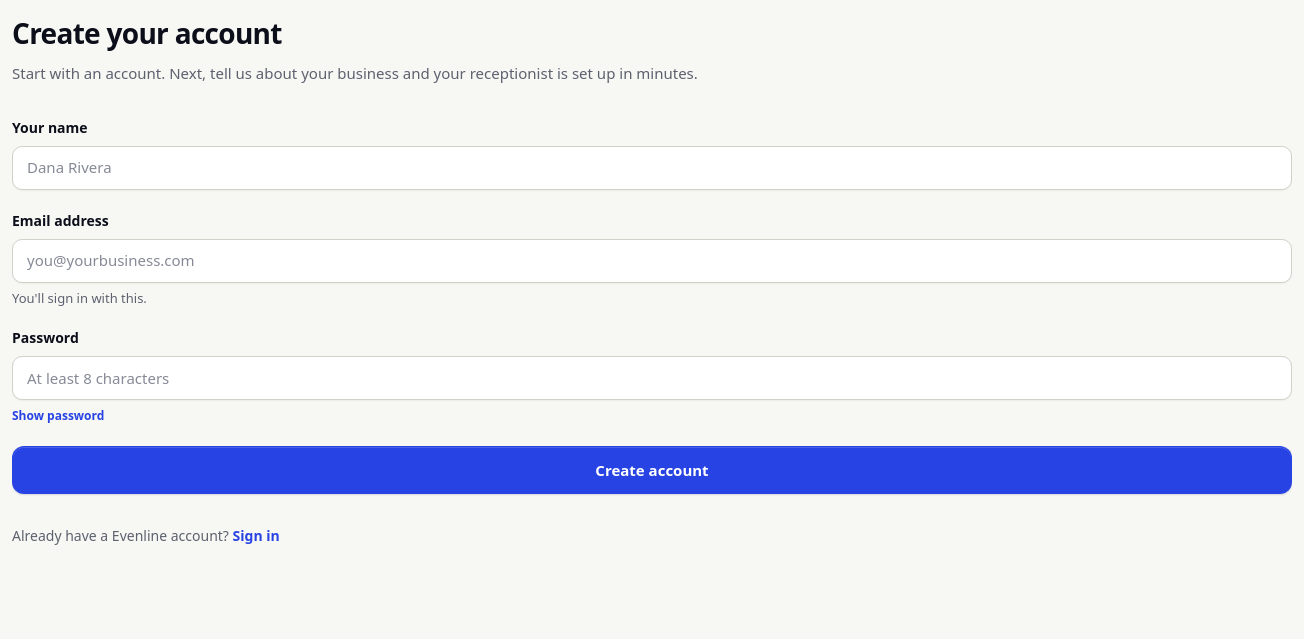
it: creating an account › checks the fields before asking the server
Type "short" into the password field labelled "Password" at (652, 378), box x1=12 y1=356 x2=1292 y2=400
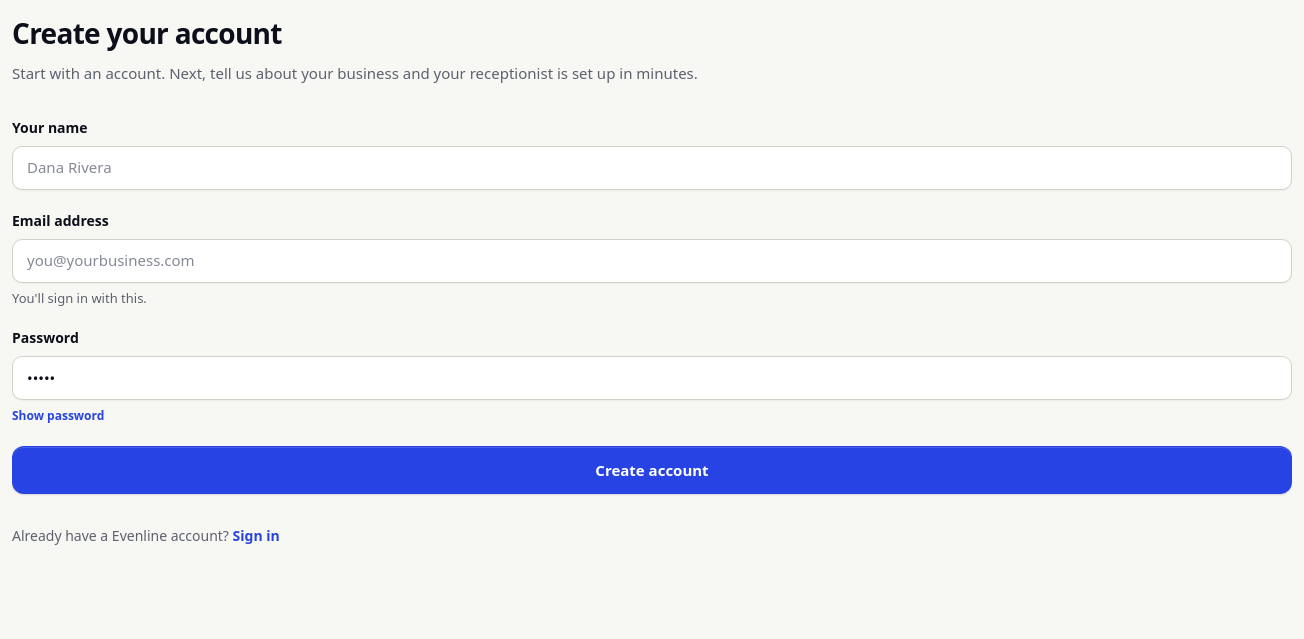
Click the button "Create account" at (652, 470), box x1=12 y1=446 x2=1292 y2=494
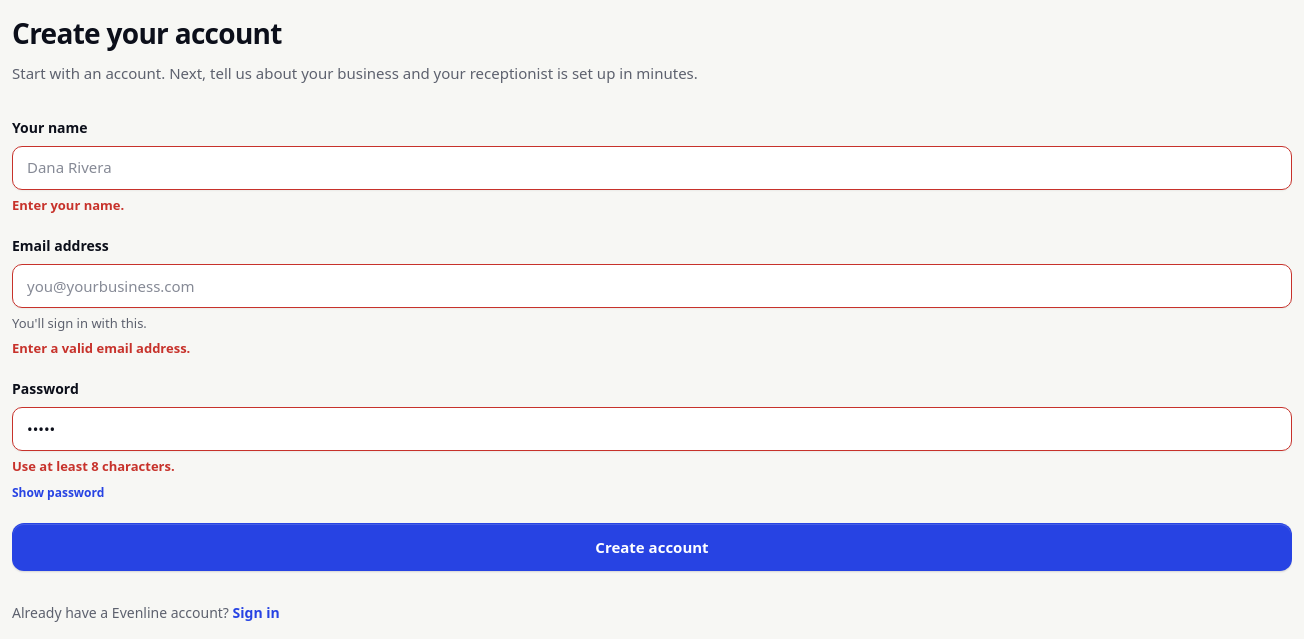
Result: the text "Enter your name." is shown at x1=12 y1=196 x2=124 y2=214
Result: the text "Enter a valid email address." is shown at x1=12 y1=339 x2=190 y2=357
Result: the text "Use at least 8 characters." is shown at x1=12 y1=457 x2=175 y2=475
